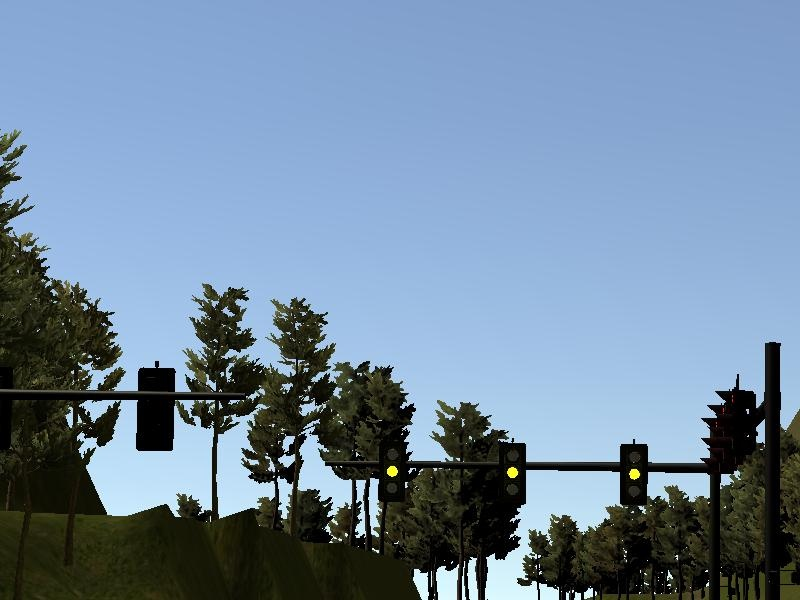yellow: (616, 439, 651, 512), (375, 436, 410, 506), (493, 437, 528, 504)
